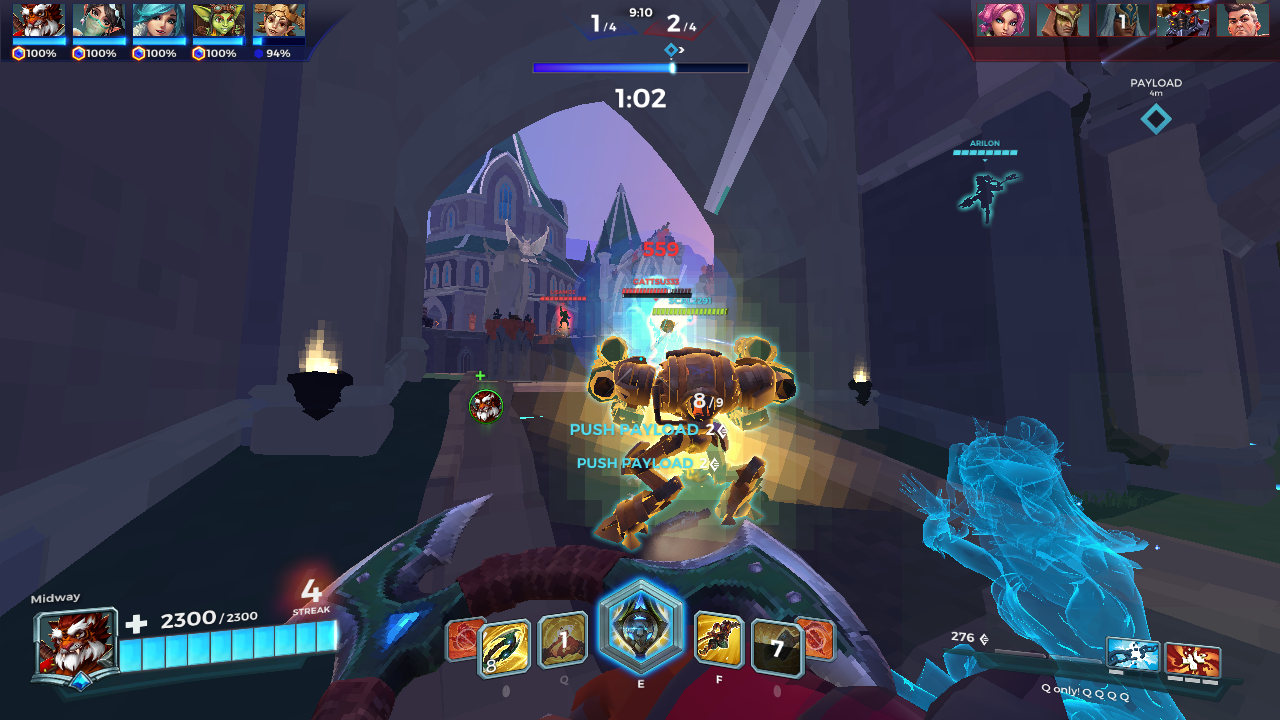model: (556, 306, 572, 335)
